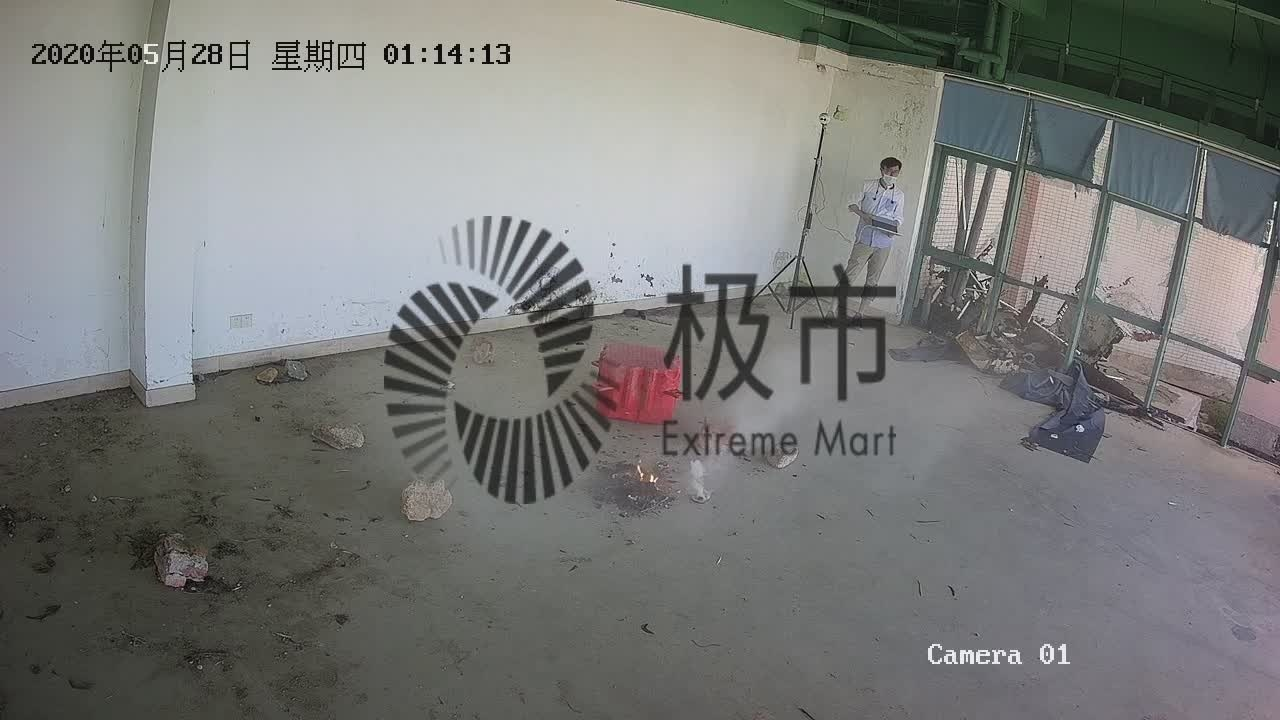fire: (401, 480, 453, 523), (623, 453, 665, 505)
